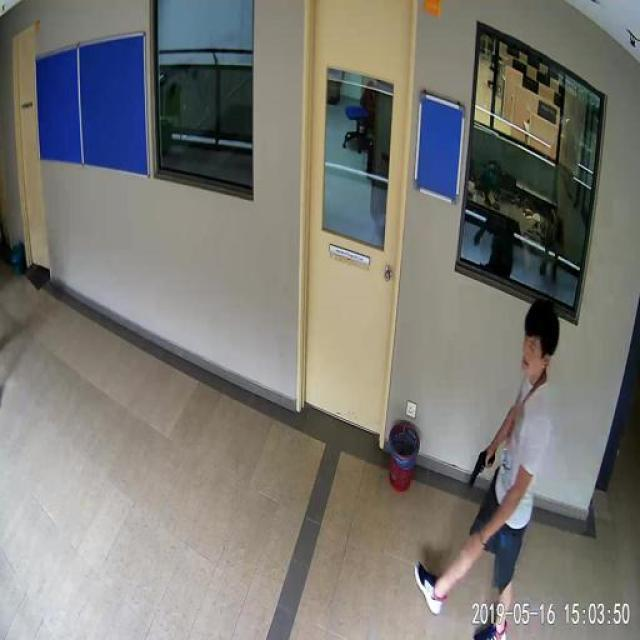Gun: (462, 438, 501, 508)
